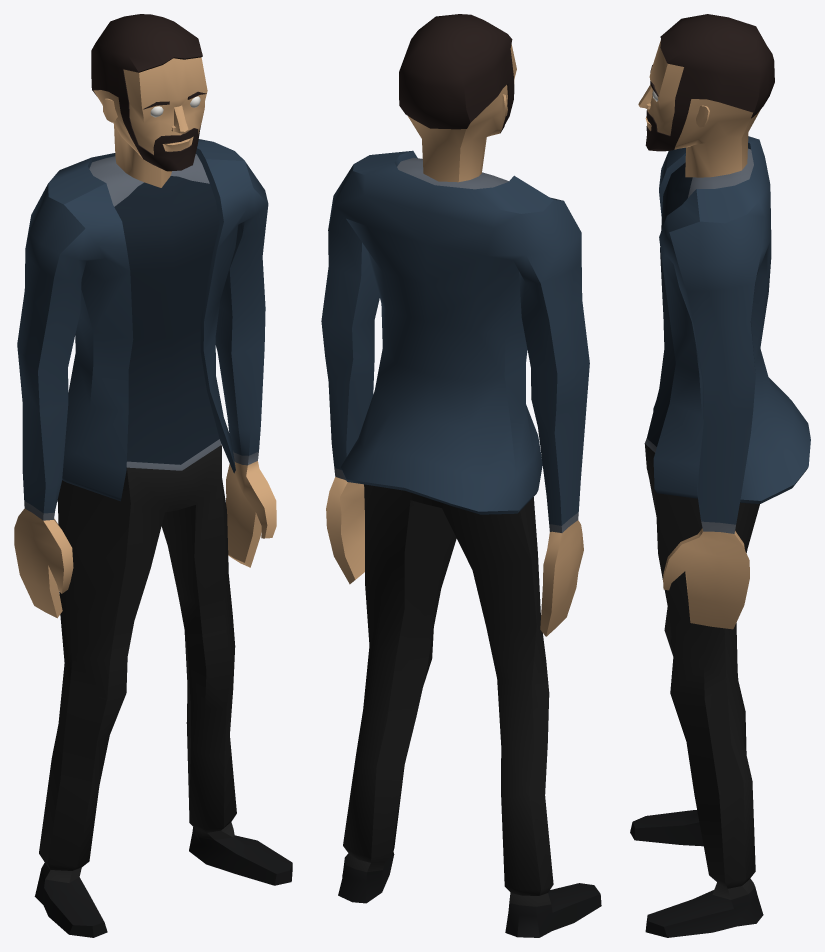
File: player_tactical.glb
3 views of the same model, side by side, from view 1: azimuth 30°, elevation 25°; view 2: azimuth 150°, elevation 25°; view 3: azimuth 270°, elevation 25° (orthographic). The views are drawn at different scales.
Visible parts, largest first — view 1: PlayerTactical; view 2: PlayerTactical; view 3: PlayerTactical.
Part boxes in pixels (x1,y1,x2,y2): PlayerTactical: [14, 14, 292, 937]; PlayerTactical: [321, 14, 601, 937]; PlayerTactical: [630, 14, 810, 937].
Size of the model in its own units: 0.5294 by 1.8 by 0.3436.
